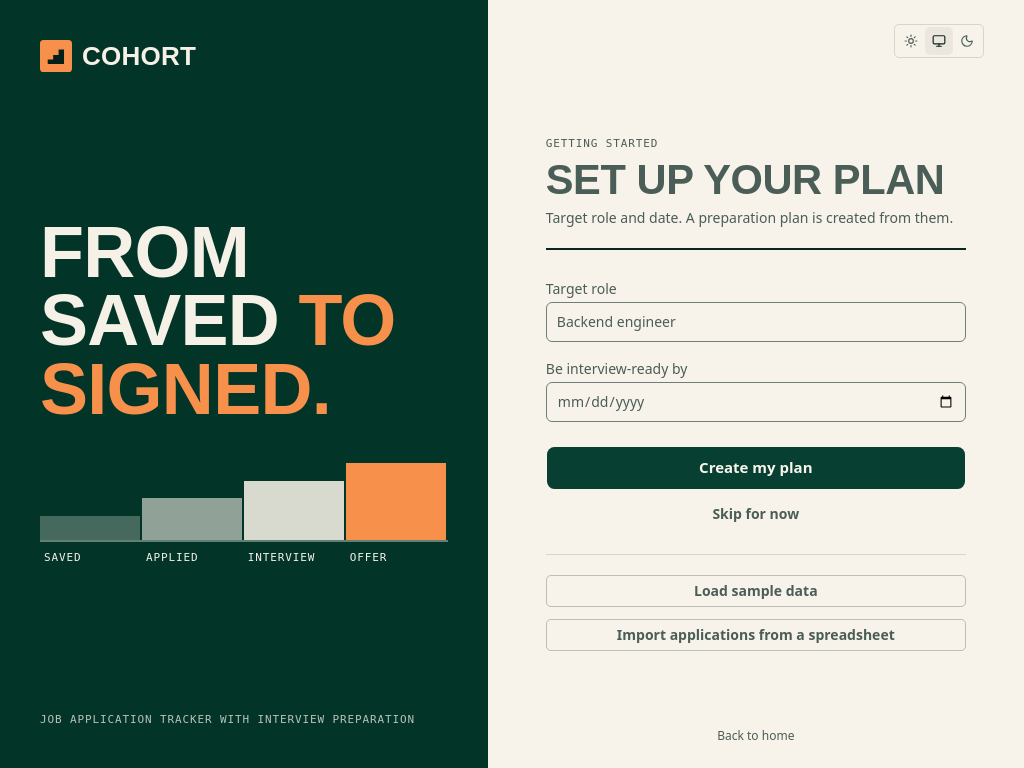
Test: OnboardingPage › offers the spreadsheet import without leaving the page
What coordinates should you click on to do the following:
click the button "Import applications from a spreadsheet"
I would click on:
 (756, 634)
Its box is [546,618,966,650].
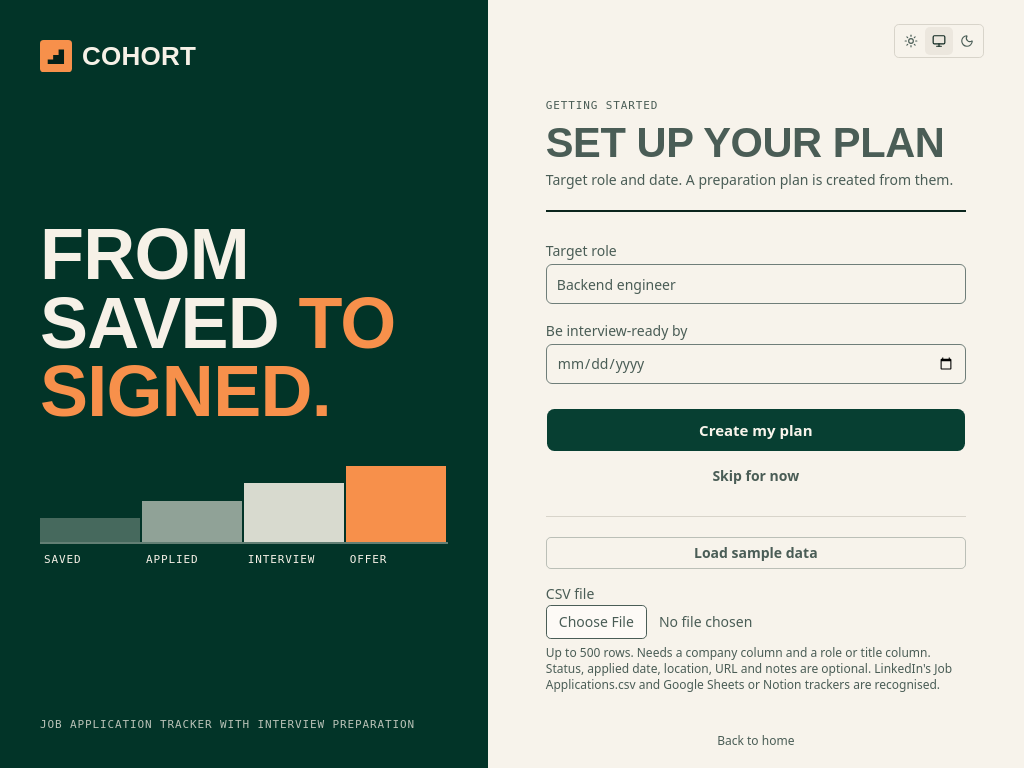
expect the file field labelled "CSV file" is shown: met, box [546,605,966,639]
